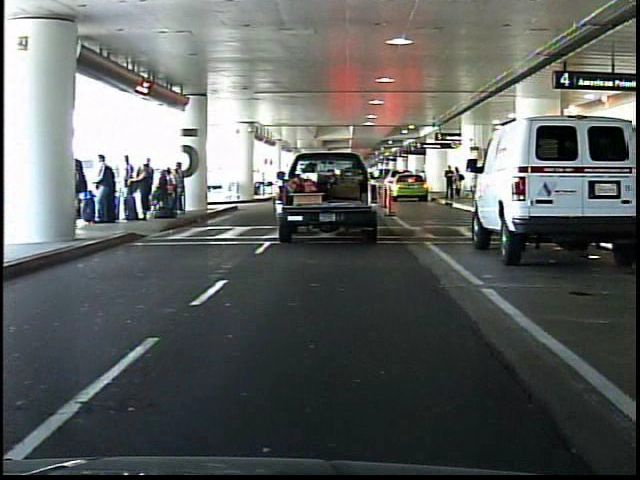person: (443, 164, 456, 201), (454, 165, 466, 203)
